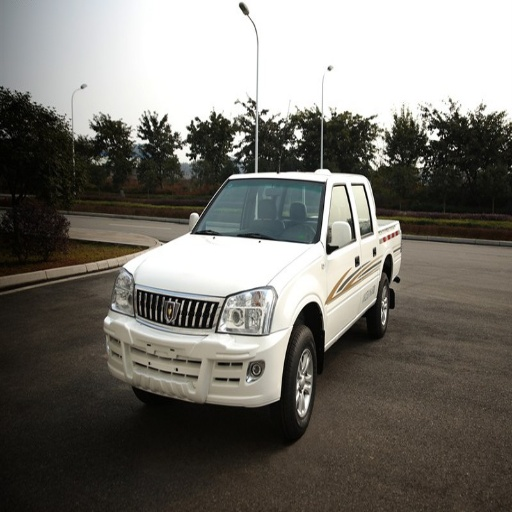front_bumper: (108, 284, 291, 407)
front_glass: (192, 180, 325, 243)
front_left_door: (325, 182, 360, 338)
